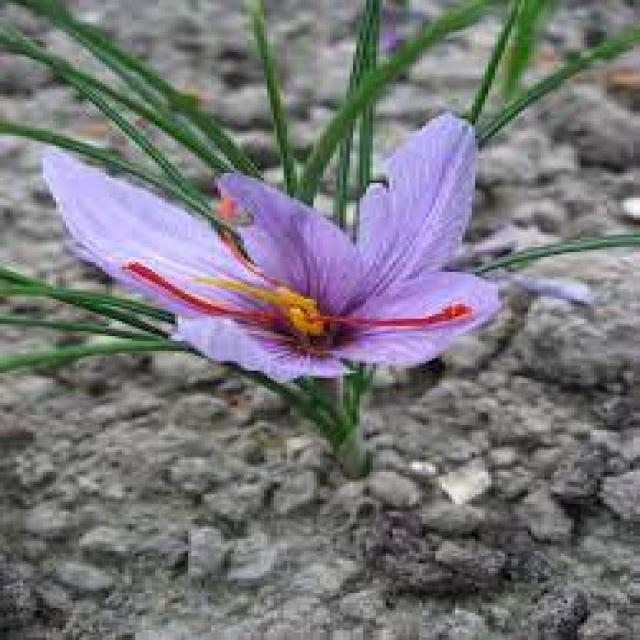saffron open: (43, 115, 497, 381)
